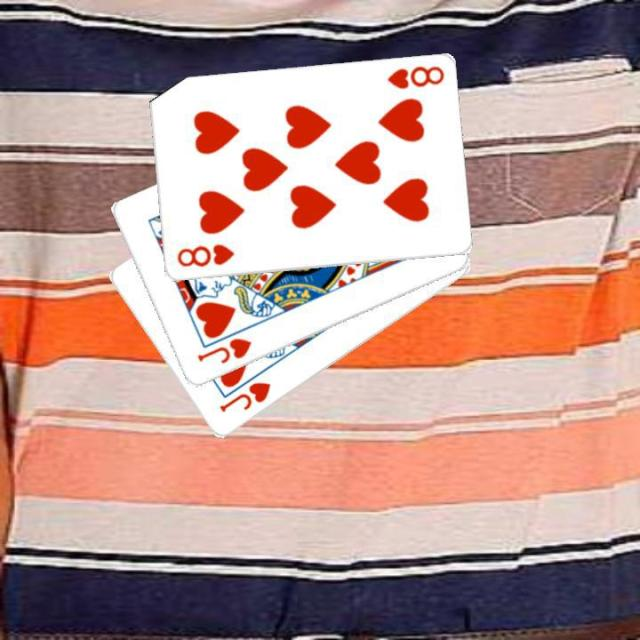8H: (383, 62, 445, 92), (172, 240, 236, 269)
JH: (215, 378, 273, 415), (193, 334, 253, 366)
